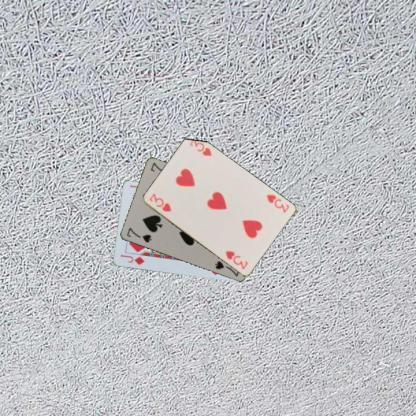3h: (146, 190, 172, 214), (264, 192, 290, 214)
7s: (124, 225, 152, 244)
Jd: (118, 252, 146, 266)
